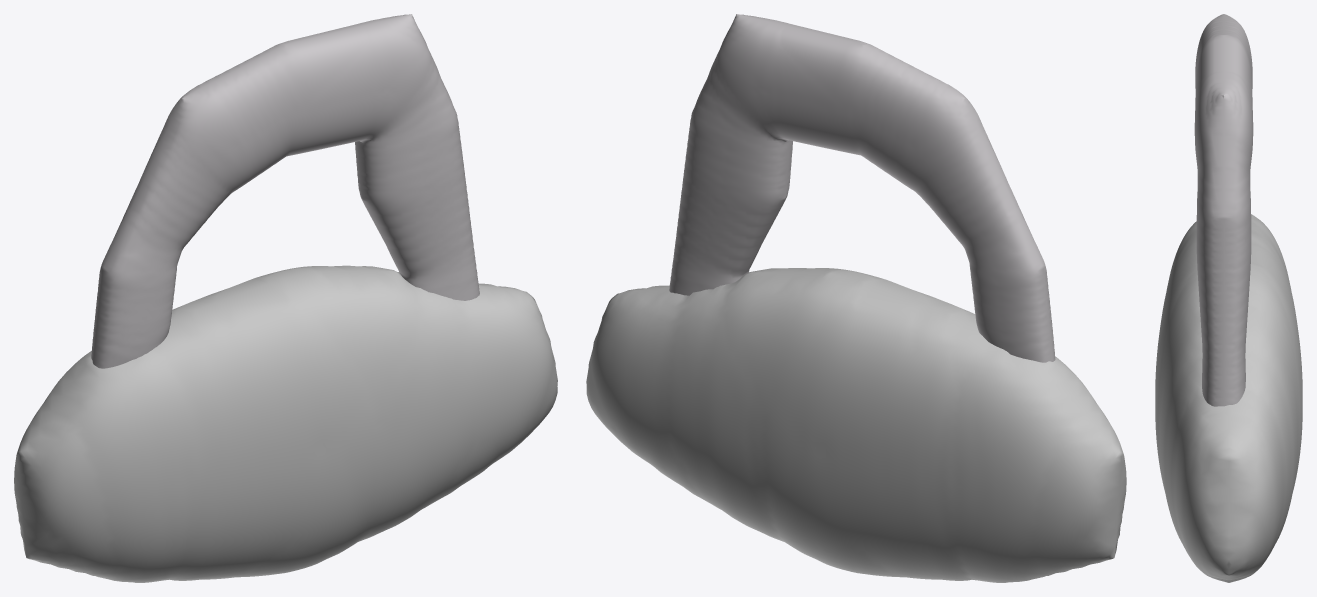
File: lock.fbx
3 renders of one model, left to right at view 1: azimuth 30°, elevation 25°; view 2: azimuth 150°, elevation 25°; view 3: azimuth 270°, elevation 25°, orthographic. The views are drawn at different scales.
Visible parts, largest first — view 1: root (×2); view 2: root (×2); view 3: root (×2).
Part boxes in pixels (left/top/right/bottom): root (×2): left=14, top=14, right=557, bottom=582; root (×2): left=586, top=14, right=1126, bottom=582; root (×2): left=1155, top=14, right=1302, bottom=582.
Size of the model in its own units: 0.2121 by 0.1979 by 0.0523.
Materials: 2 (1 with a texture image).
